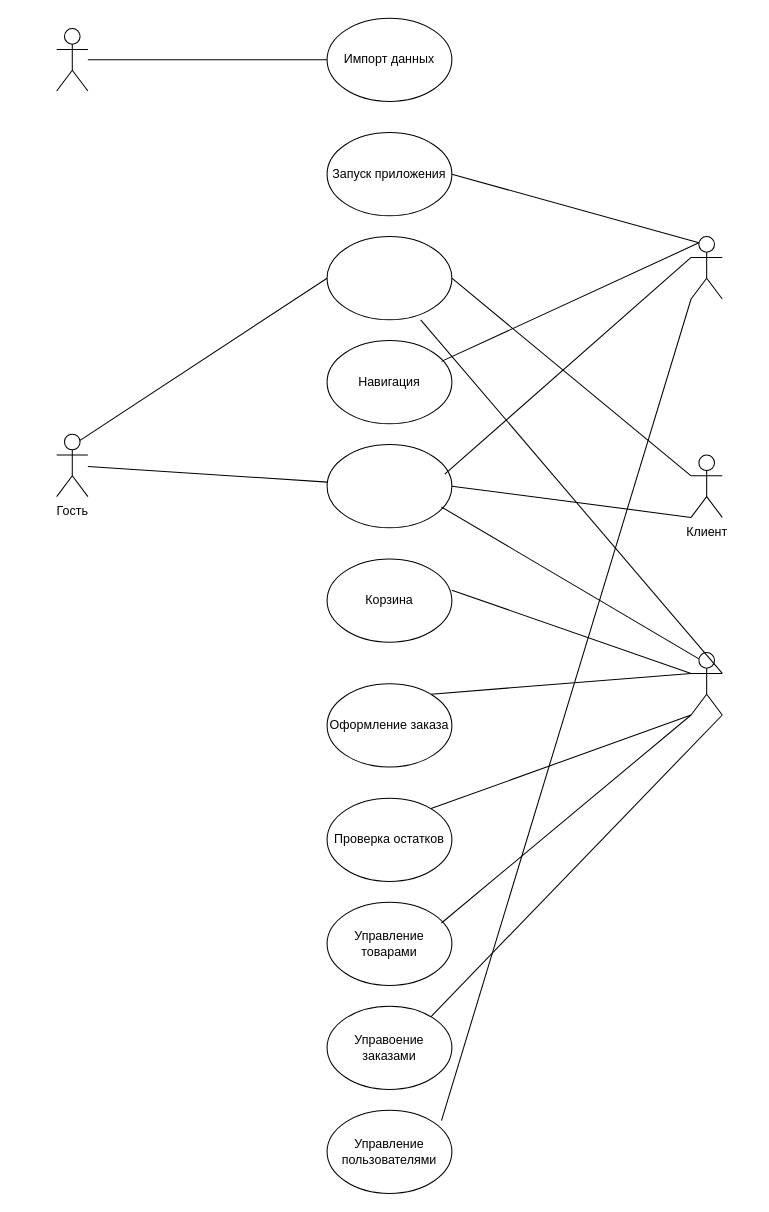
Some shapes in this 769 by 1212 pixel diagram are drawn without their labels. The shapes that lost their labels are listed below. From the top down, each one's centre as x and y in pixels, then its label:
the point at 72,59: Оператор загрузки
the point at 389,278: Вход и гость
the point at 706,267: Пользователь
the point at 389,486: Каталог
the point at 706,683: Администартор
